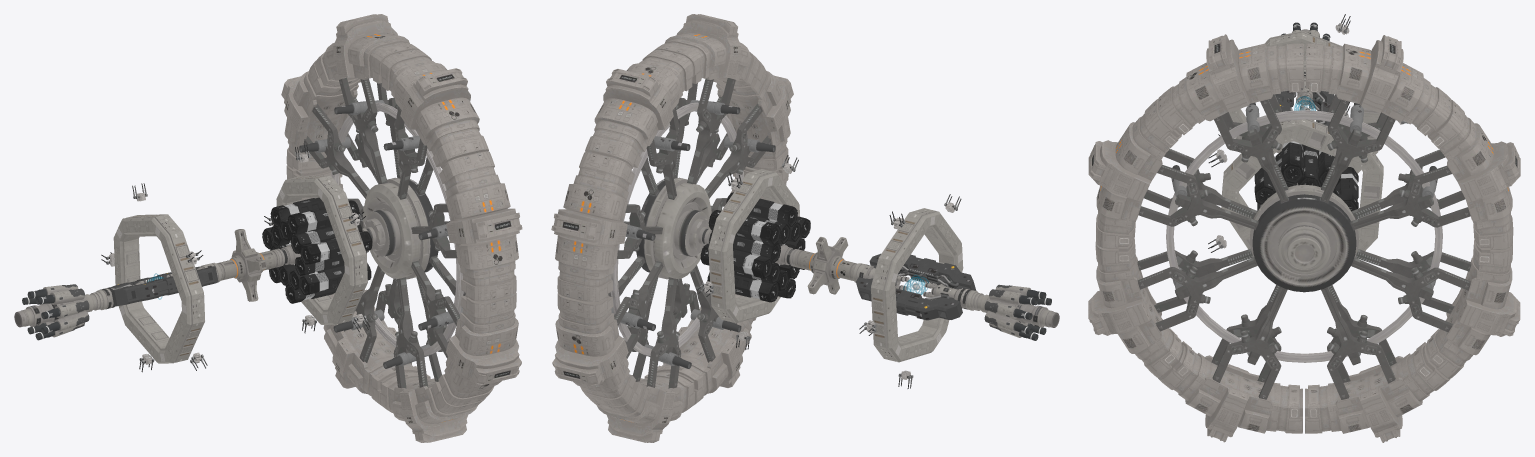
File: colonization-detail.glb
The picture shows the model from 3 angles, left to right: view 1: azimuth 30°, elevation 25°; view 2: azimuth 150°, elevation 25°; view 3: azimuth 270°, elevation 25°; orthographic projection. The views are drawn at different scales.
Parts seen in each view (by area): view 1: colonization; view 2: colonization; view 3: colonization.
Part boxes in pixels (bbox=[...]): colonization: bbox=[14, 14, 522, 442]; colonization: bbox=[551, 14, 1059, 442]; colonization: bbox=[1088, 14, 1520, 442].
Bounding box in the file's own units: 160 × 136 × 136.
24 materials, 24 textured.
